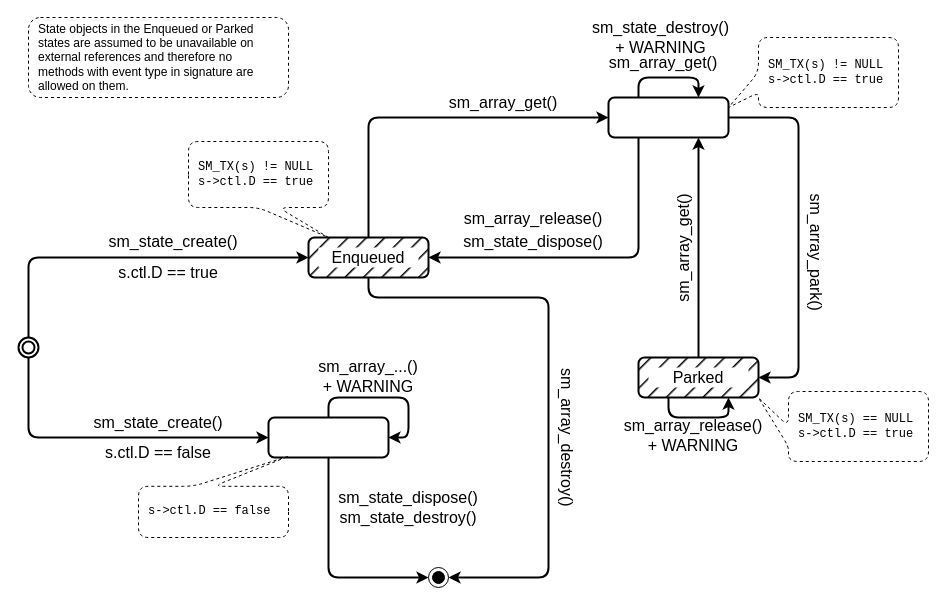
This 946x605 diagram has some shape labels left out. Here are the shapes that lost their labels. From the top down, the centre of each, then its label:
point (668, 117): In use
point (328, 437): Standalone
